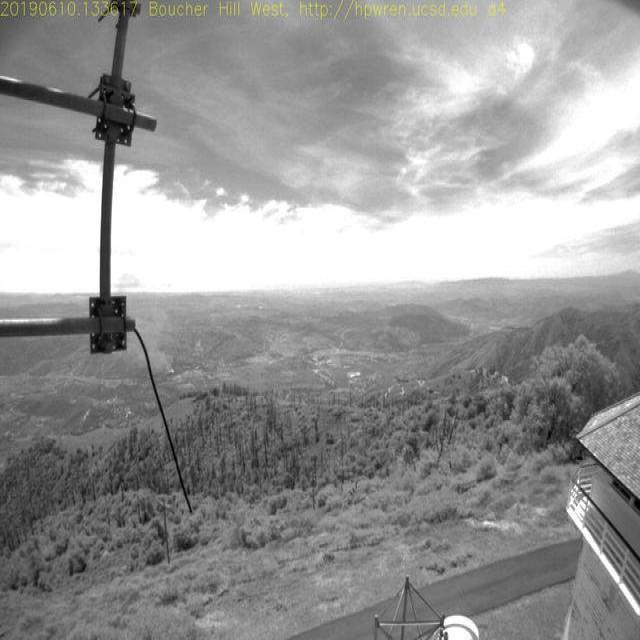smoke: (133, 300, 177, 379)
